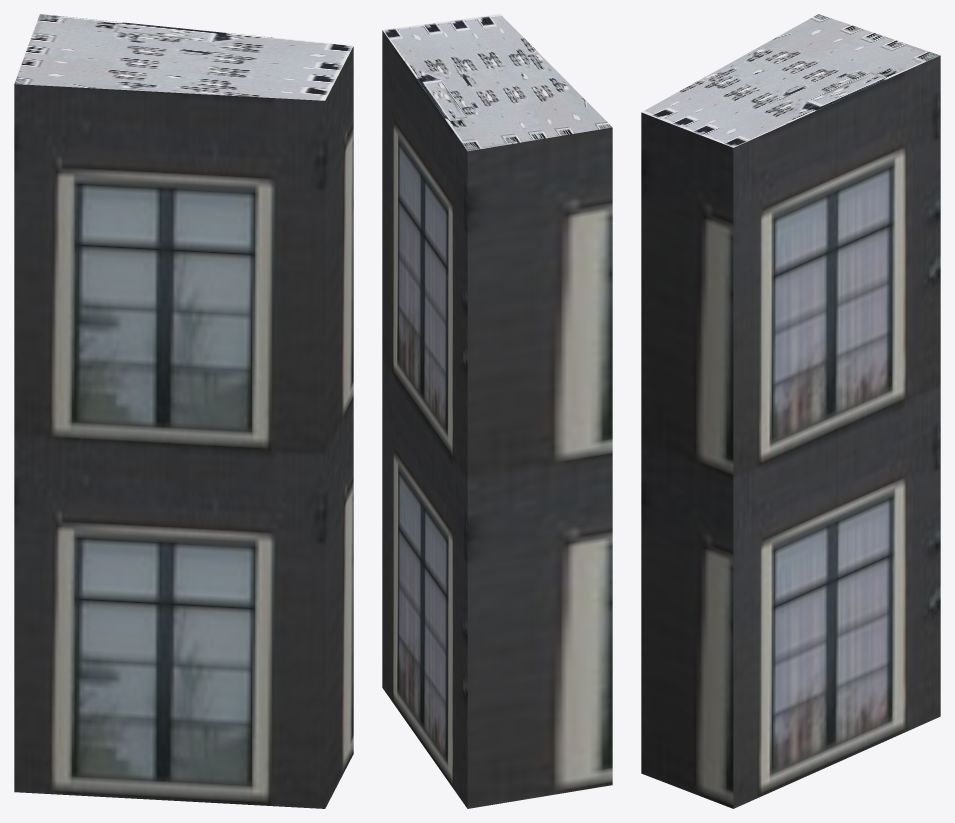
The model's file is ResTex__1017.fbx.
3 renders of one model, left to right at view 1: azimuth 30°, elevation 25°; view 2: azimuth 150°, elevation 25°; view 3: azimuth 270°, elevation 25°, orthographic. The views are drawn at different scales.
Visible parts, largest first — view 1: CityEngineMaterial_22_m, CityEngineMaterial_4_m; view 2: CityEngineMaterial_22_m, CityEngineMaterial_4_m; view 3: CityEngineMaterial_22_m, CityEngineMaterial_4_m.
Boxes of the visible parts, x1,y1,x2,y2 form: CityEngineMaterial_22_m: (14,46,353,808); CityEngineMaterial_4_m: (14,14,353,100); CityEngineMaterial_22_m: (382,30,612,808); CityEngineMaterial_4_m: (382,14,612,151); CityEngineMaterial_22_m: (641,55,940,808); CityEngineMaterial_4_m: (641,14,940,147).
Size of the model in its own units: 2.61 by 6 by 2.46.
2 materials, 2 textured.
